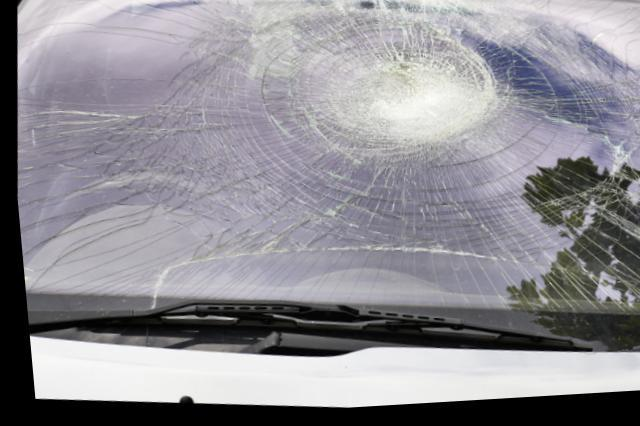glass shatter: (14, 0, 640, 323)
